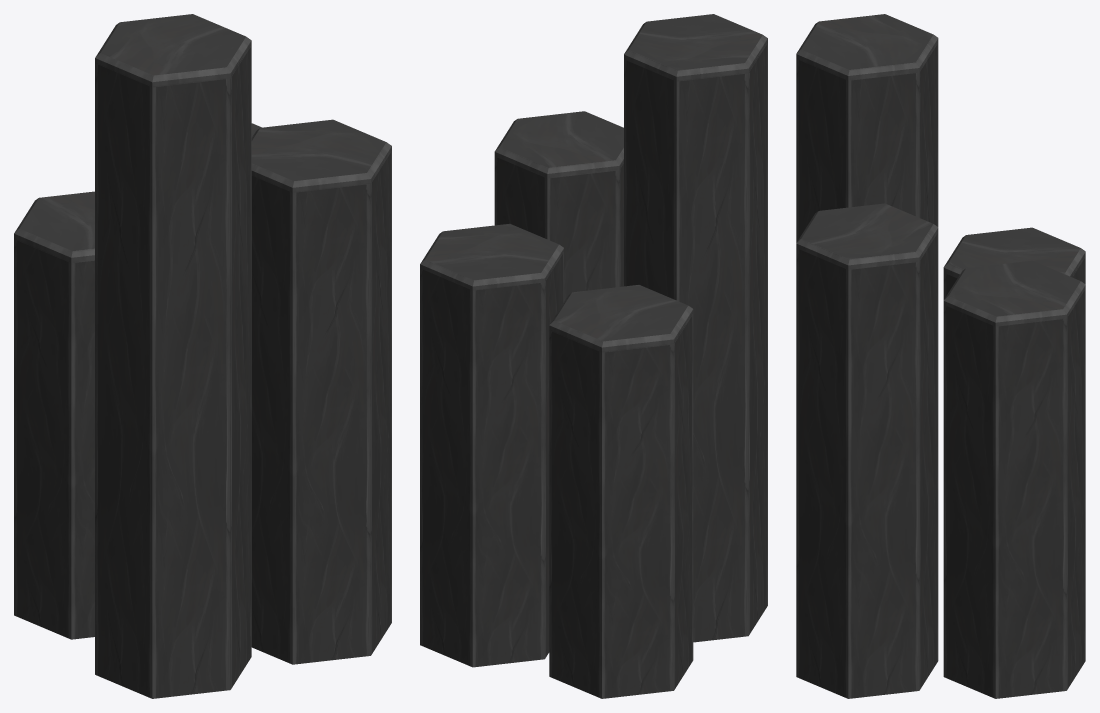
Rendered from SM_Causeway3.fbx.
The picture shows the model from 3 angles, left to right: view 1: azimuth 30°, elevation 25°; view 2: azimuth 150°, elevation 25°; view 3: azimuth 270°, elevation 25°; orthographic projection. The views are drawn at different scales.
Parts seen in each view (by area): view 1: Causeway3; view 2: Causeway3; view 3: Causeway3.
Boxes of the visible parts, x1=… form: Causeway3: x1=14, y1=14, x2=391, y2=698; Causeway3: x1=420, y1=14, x2=767, y2=698; Causeway3: x1=796, y1=14, x2=1085, y2=698.
Bounding box in the file's own units: 393 × 846 × 393.
